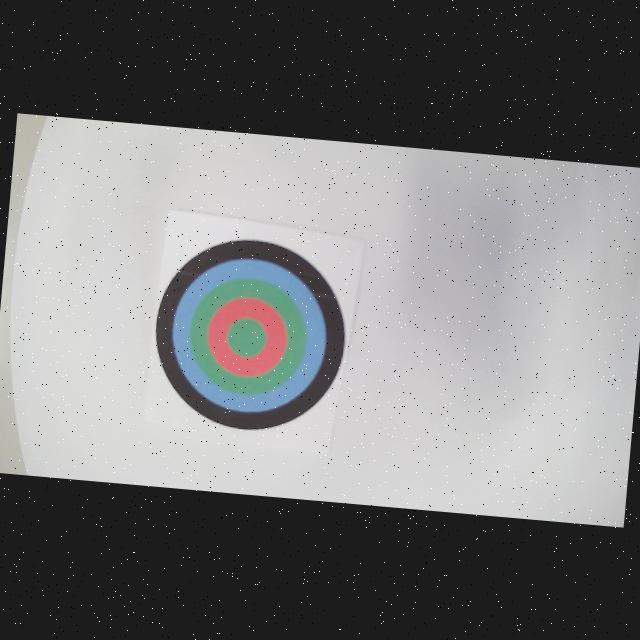COGNITIVE: (148, 232, 354, 438)
